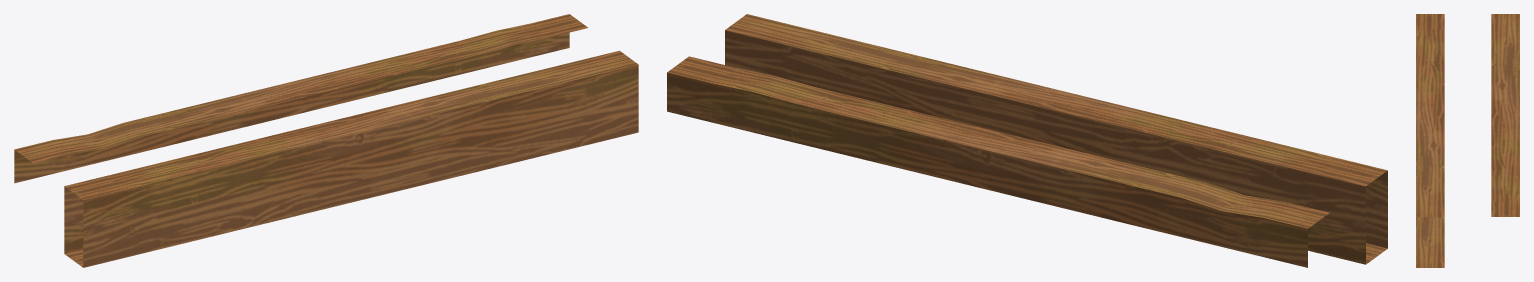
Rendered from Wall_BottomCover.gltf.
The picture shows the model from 3 angles, left to right: view 1: azimuth 30°, elevation 25°; view 2: azimuth 150°, elevation 25°; view 3: azimuth 270°, elevation 25°; orthographic projection. The views are drawn at different scales.
Visible parts, largest first — view 1: Wall_BottomCover; view 2: Wall_BottomCover; view 3: Wall_BottomCover.
Part boxes in pixels (left/top/right/bottom): Wall_BottomCover: left=14, top=14, right=638, bottom=267; Wall_BottomCover: left=667, top=14, right=1387, bottom=267; Wall_BottomCover: left=1416, top=14, right=1519, bottom=267.
Size of the model in its own units: 2 by 0.2375 by 0.4316.
Materials: 1 (1 with a texture image).
